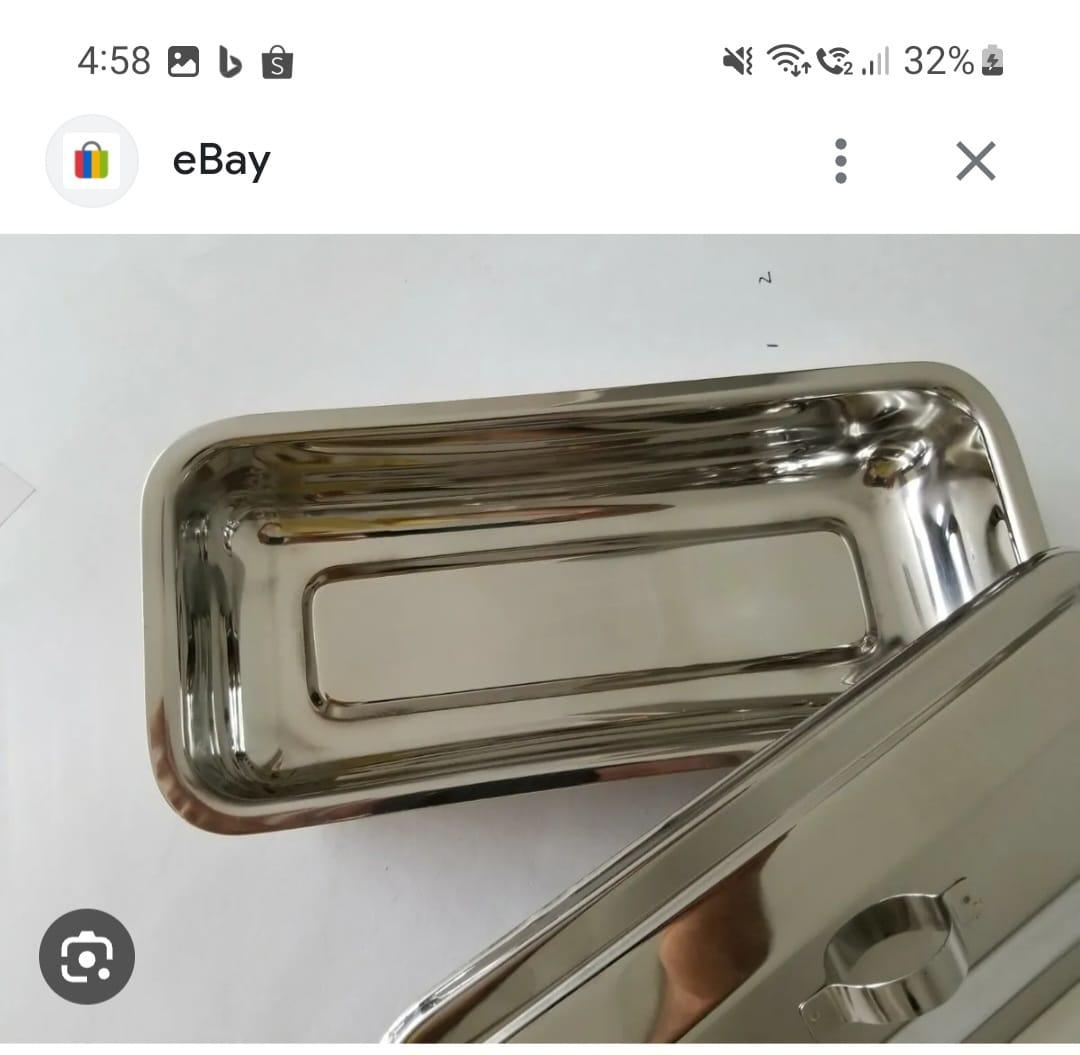Catheter Tray: (125, 355, 1060, 833)
